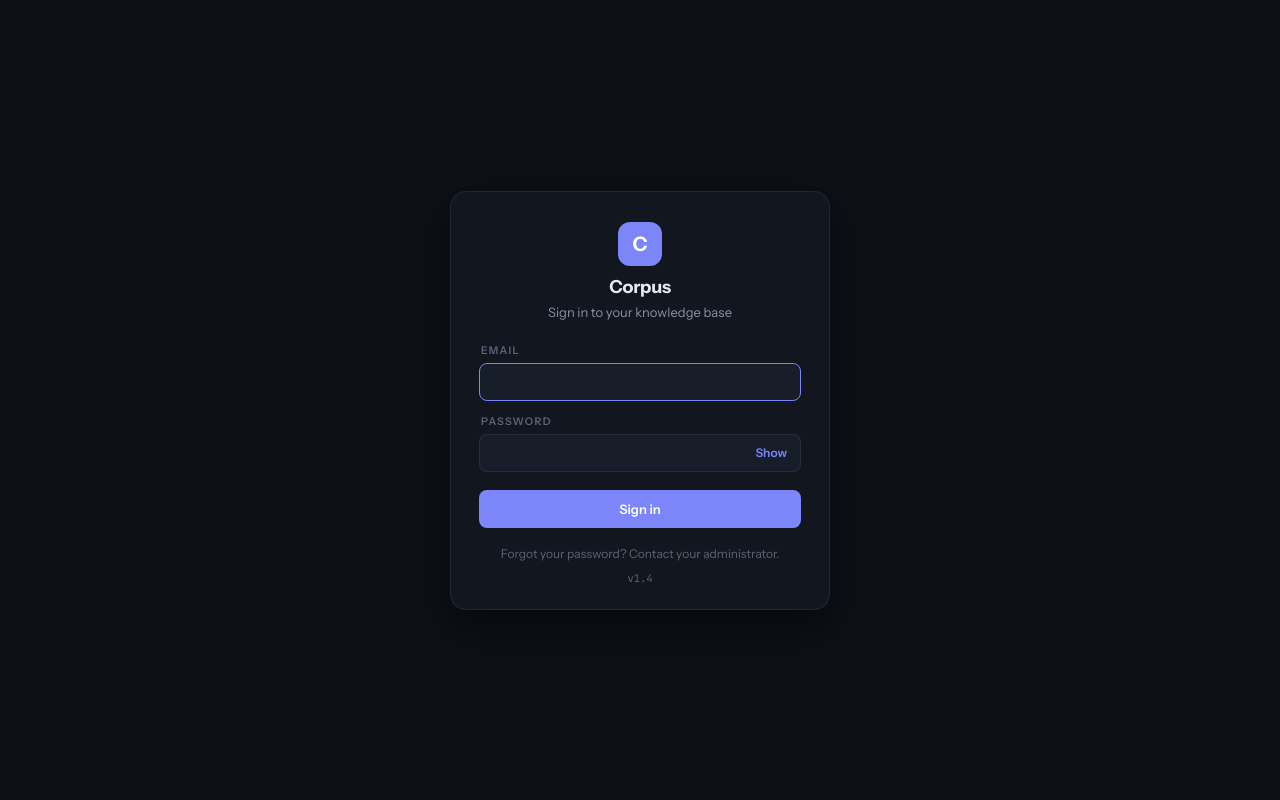
Test case: FR-AUT-07 — the shell requires authentication › replaces the login screen with the shell on a successful sign-in
Step 1. Click the button "Sign in" → (640, 508), box x1=479 y1=490 x2=801 y2=528
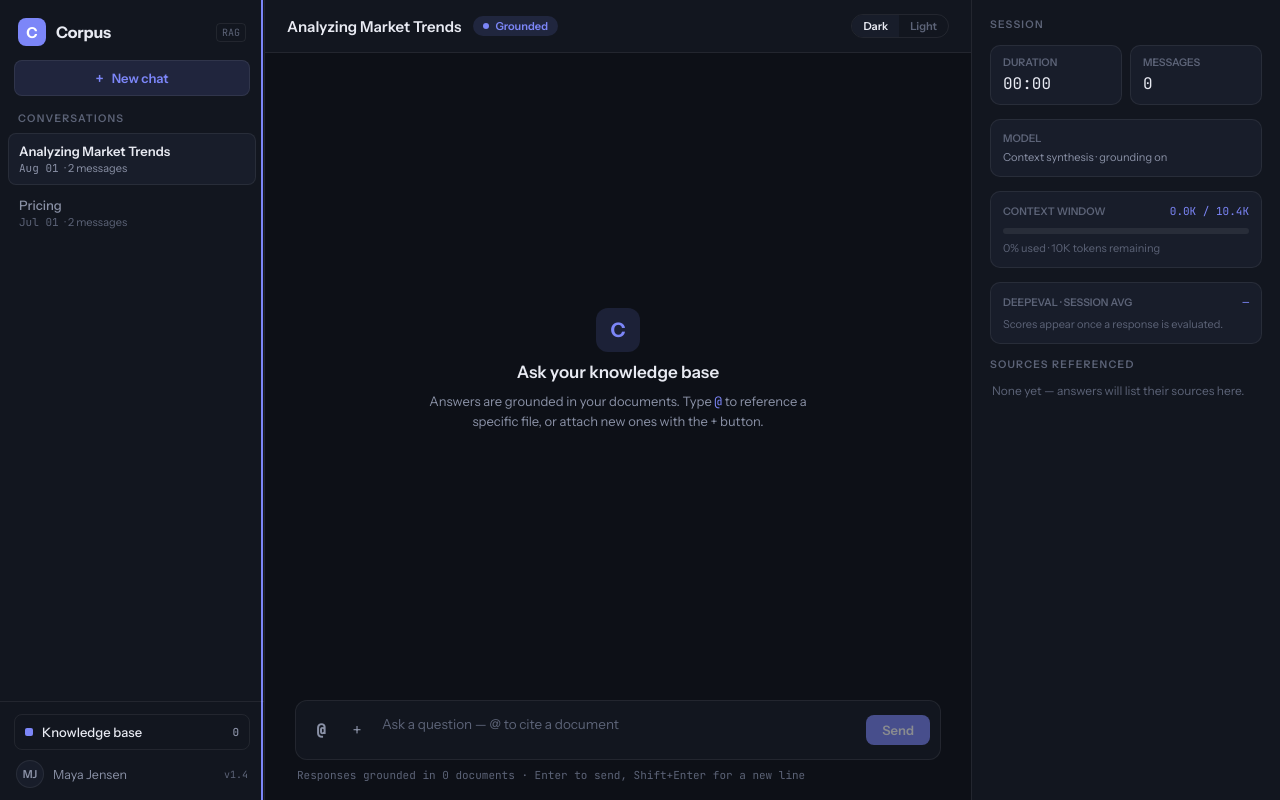
Expected: the navigation bar "CONVERSATIONS" is shown, x1=0 y1=0 x2=265 y2=799
